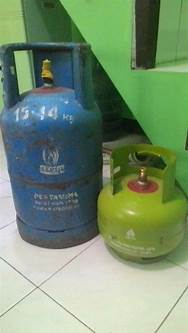blue_gas: (1, 41, 103, 248)
gas_ijo: (96, 143, 188, 264)
